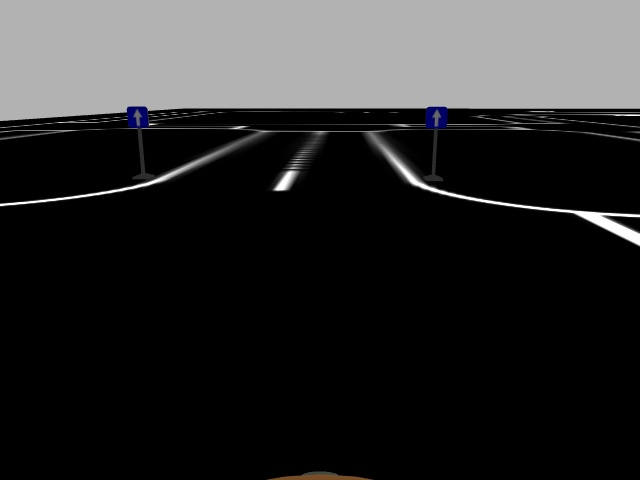oneway: (124, 104, 149, 130), (425, 104, 448, 131)
